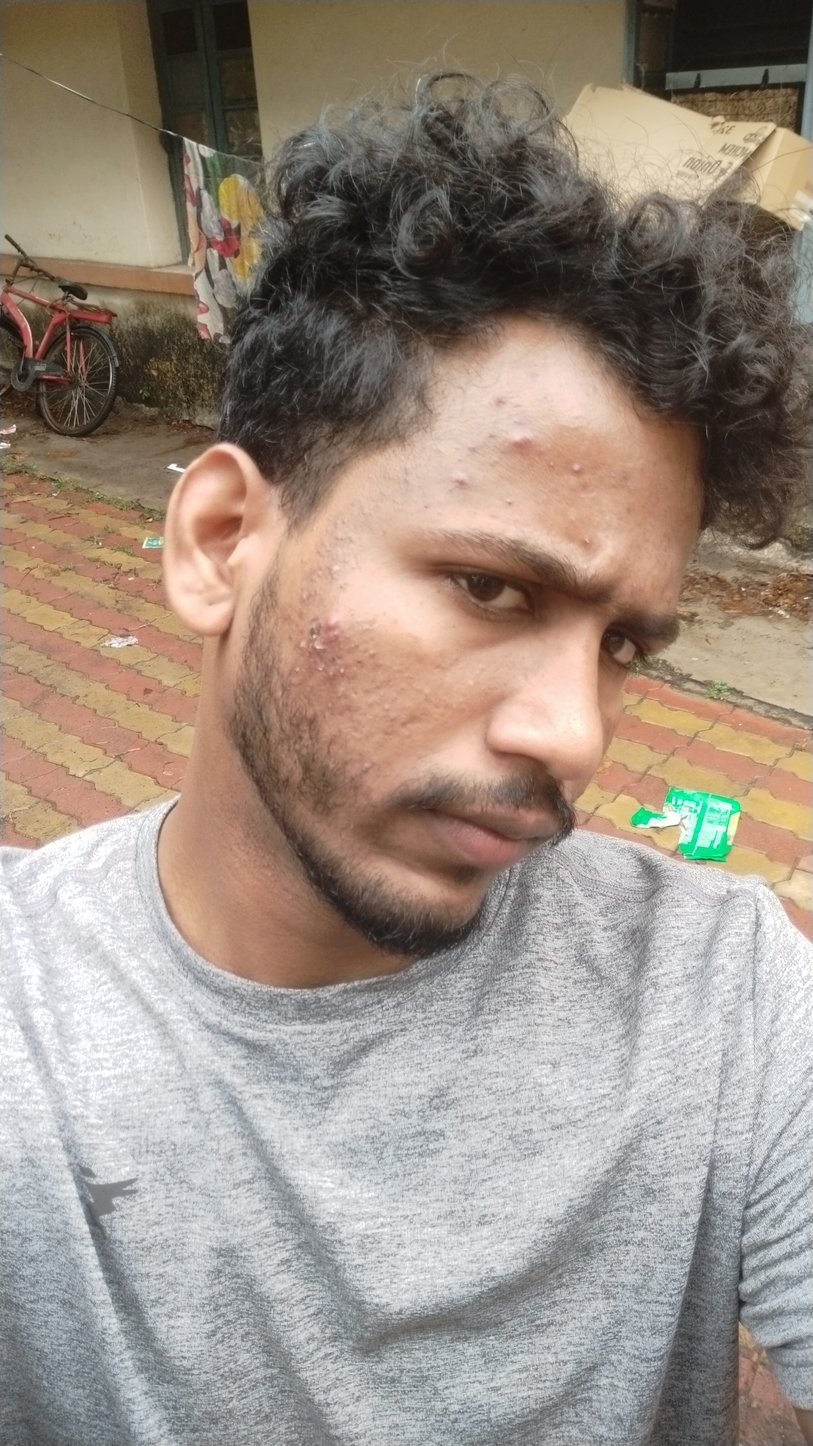closed_comedone: (327, 526, 350, 548), (381, 704, 392, 715), (369, 650, 379, 661)
nodule: (501, 423, 545, 458), (322, 618, 345, 642), (308, 643, 330, 666)
pustule: (570, 462, 583, 476)
